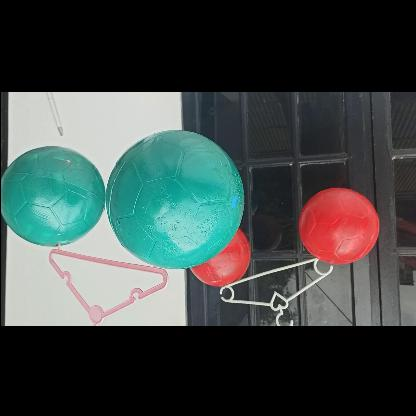red_ball: (300, 188, 376, 264)
